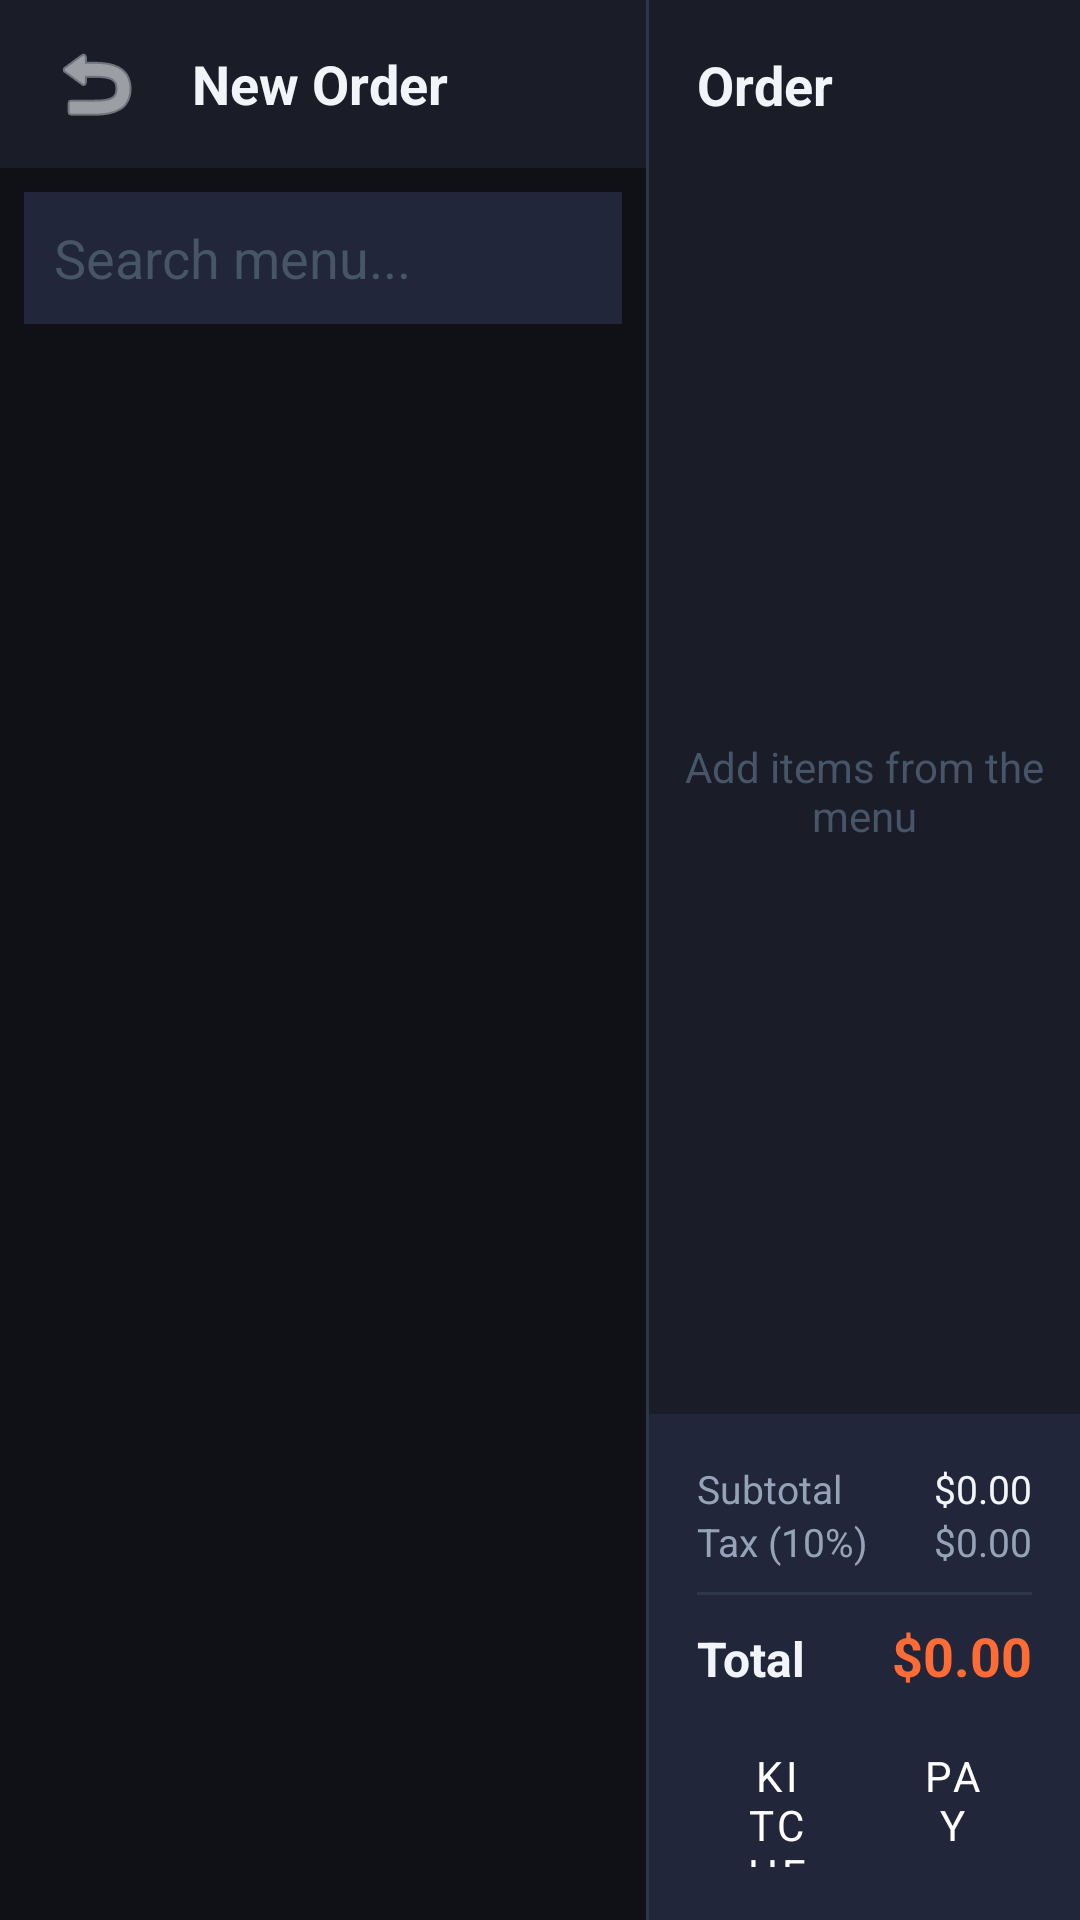

Where icons sit on this 1080*1920 app screen, as (x1, y1, x2, y2):
revert: (63, 53, 132, 116)
